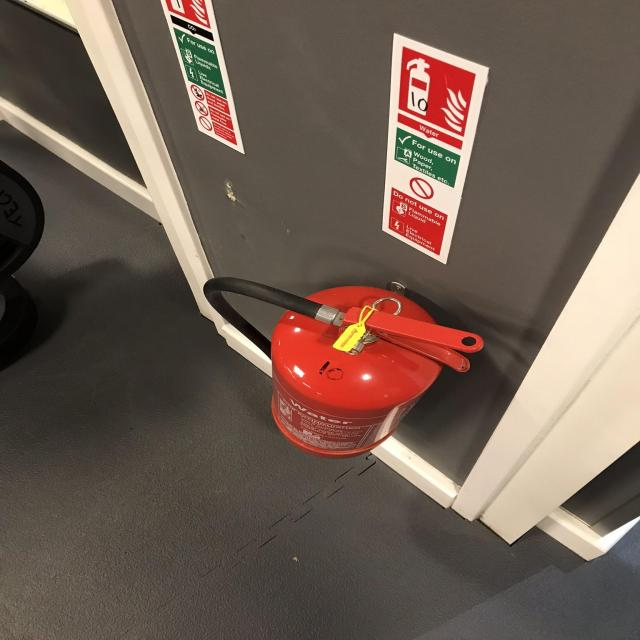fire_extinguisher: (198, 268, 489, 460)
